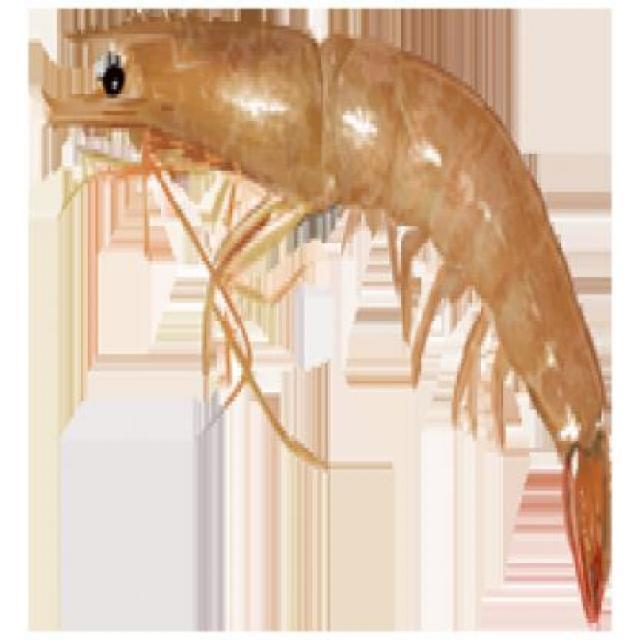shrimp: (38, 3, 622, 635)
